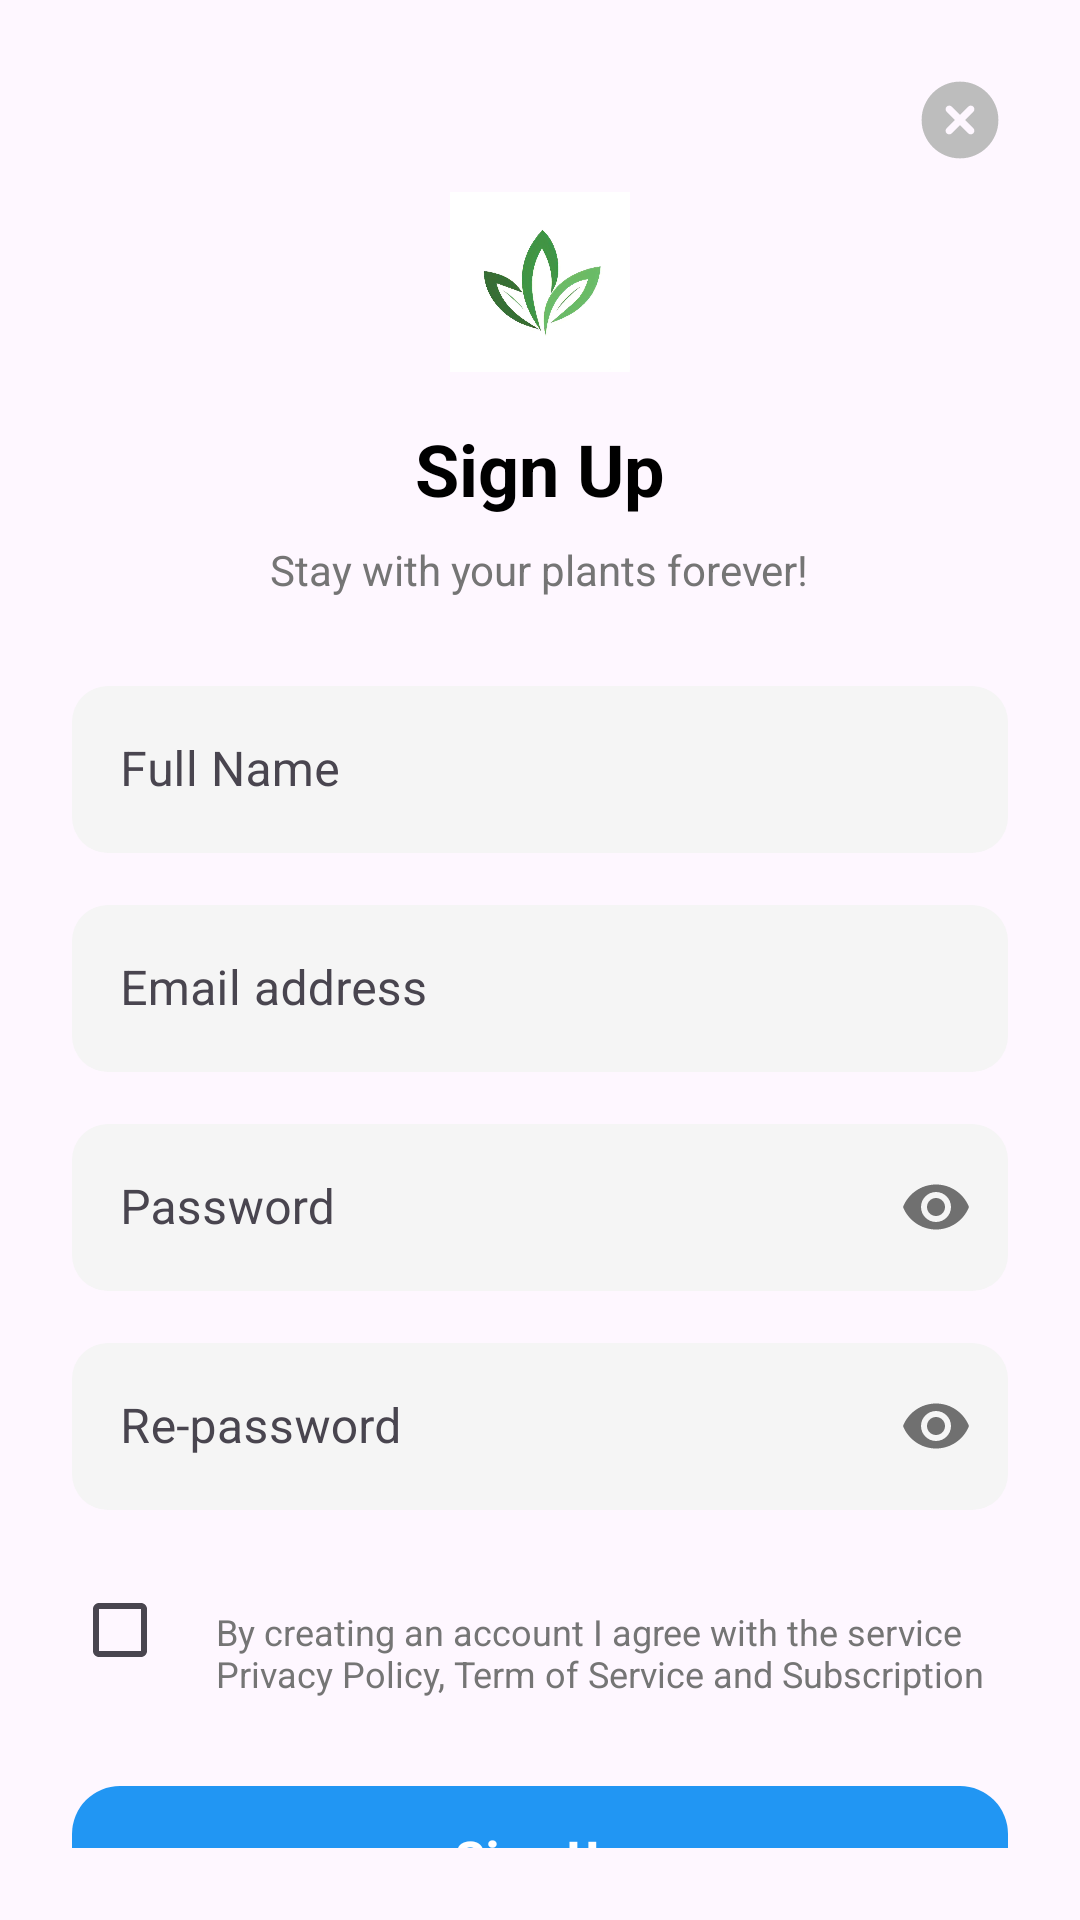

Where to tap for icons on this 1080 x 1920 app screen, as [x,y]:
circle xmark full: [960,120]
